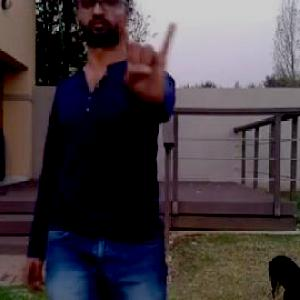takeoff-hand: (114, 1, 184, 105)
